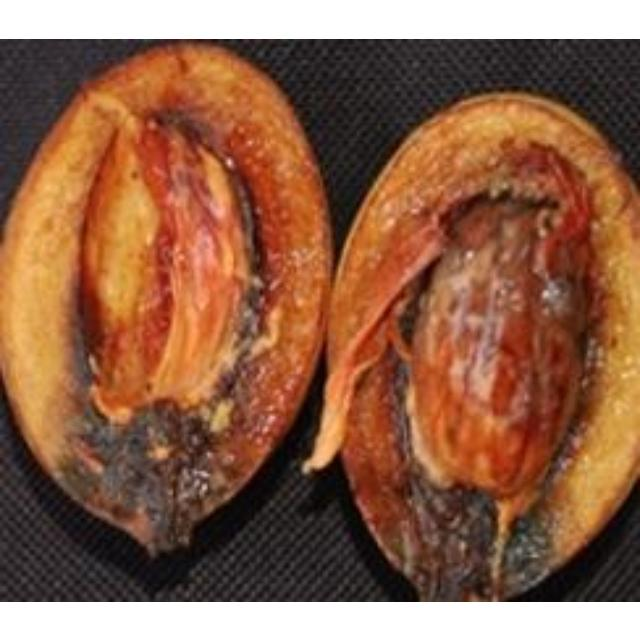damaged: (0, 41, 637, 599)
